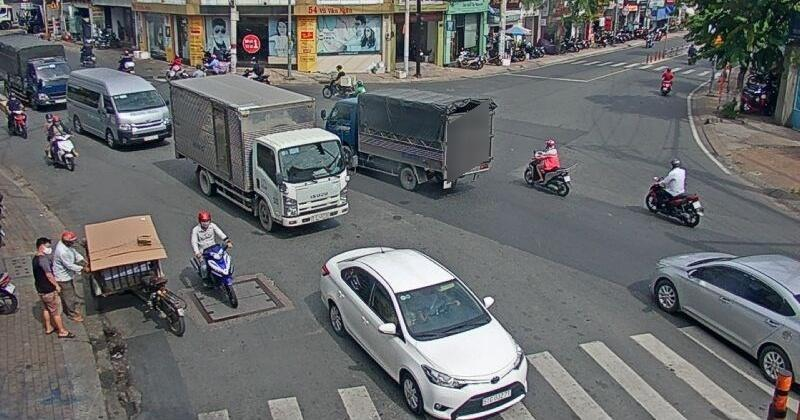xe hoi: (318, 246, 526, 420), (652, 252, 800, 385)
xe may: (190, 212, 241, 306), (644, 158, 704, 228), (523, 139, 571, 197), (43, 113, 77, 172), (4, 90, 28, 139)
xe tai: (170, 75, 346, 233), (324, 90, 492, 192)
xe van: (64, 66, 168, 152)
